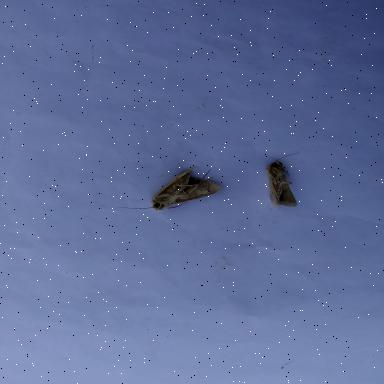abw: (116, 165, 224, 212), (264, 150, 302, 210)
